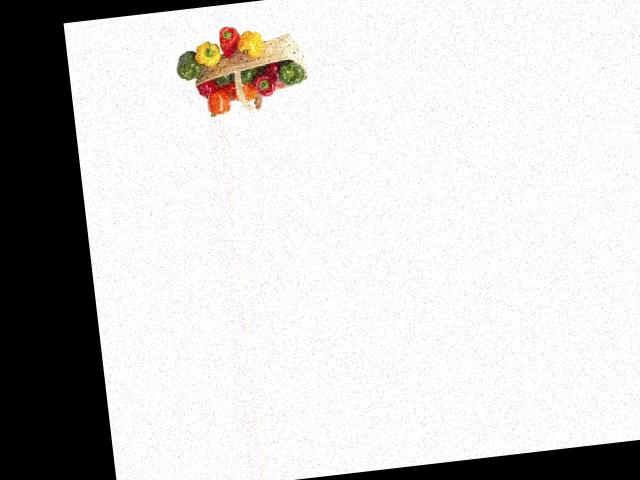bell_pepper: (274, 60, 306, 87)
